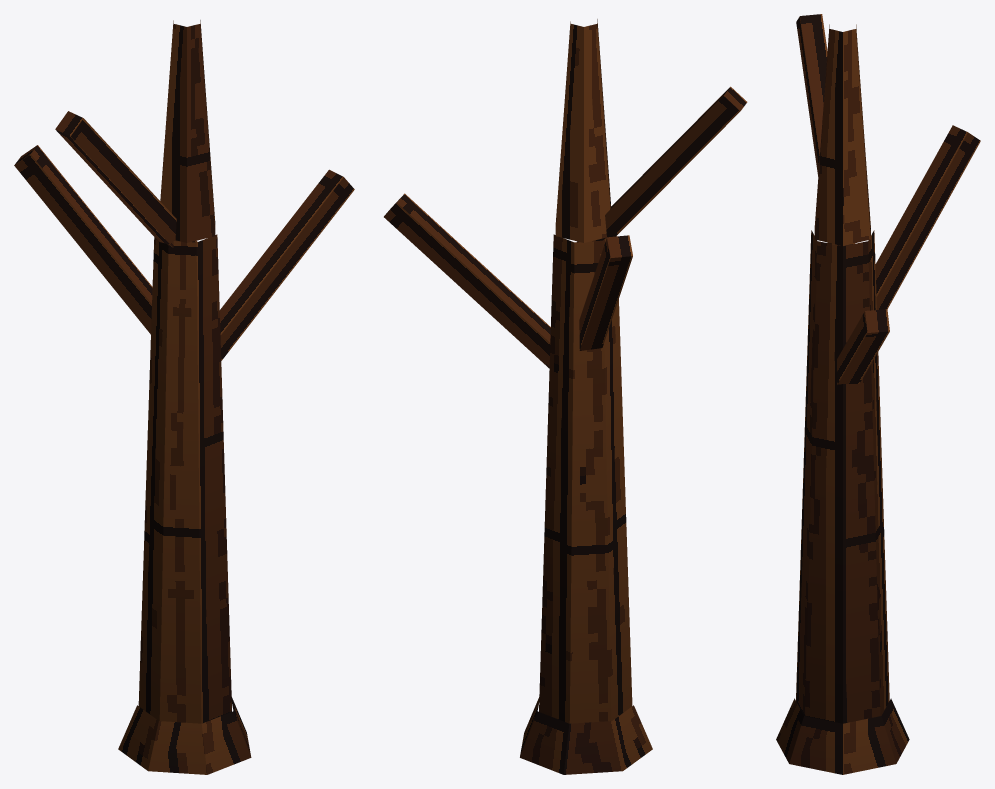
File: apple_2_trunk.glb
The picture shows the model from 3 angles, left to right: view 1: azimuth 30°, elevation 25°; view 2: azimuth 150°, elevation 25°; view 3: azimuth 270°, elevation 25°; orthographic projection.
Visible parts, largest first — view 1: apple_2_trunk; view 2: apple_2_trunk; view 3: apple_2_trunk.
Boxes of the visible parts, <box> form: apple_2_trunk: <box>14,20,354,774</box>; apple_2_trunk: <box>384,19,747,774</box>; apple_2_trunk: <box>776,14,980,774</box>.
Size of the model in its own units: 1.95 by 4.18 by 1.08.
1 material, 1 textured.
